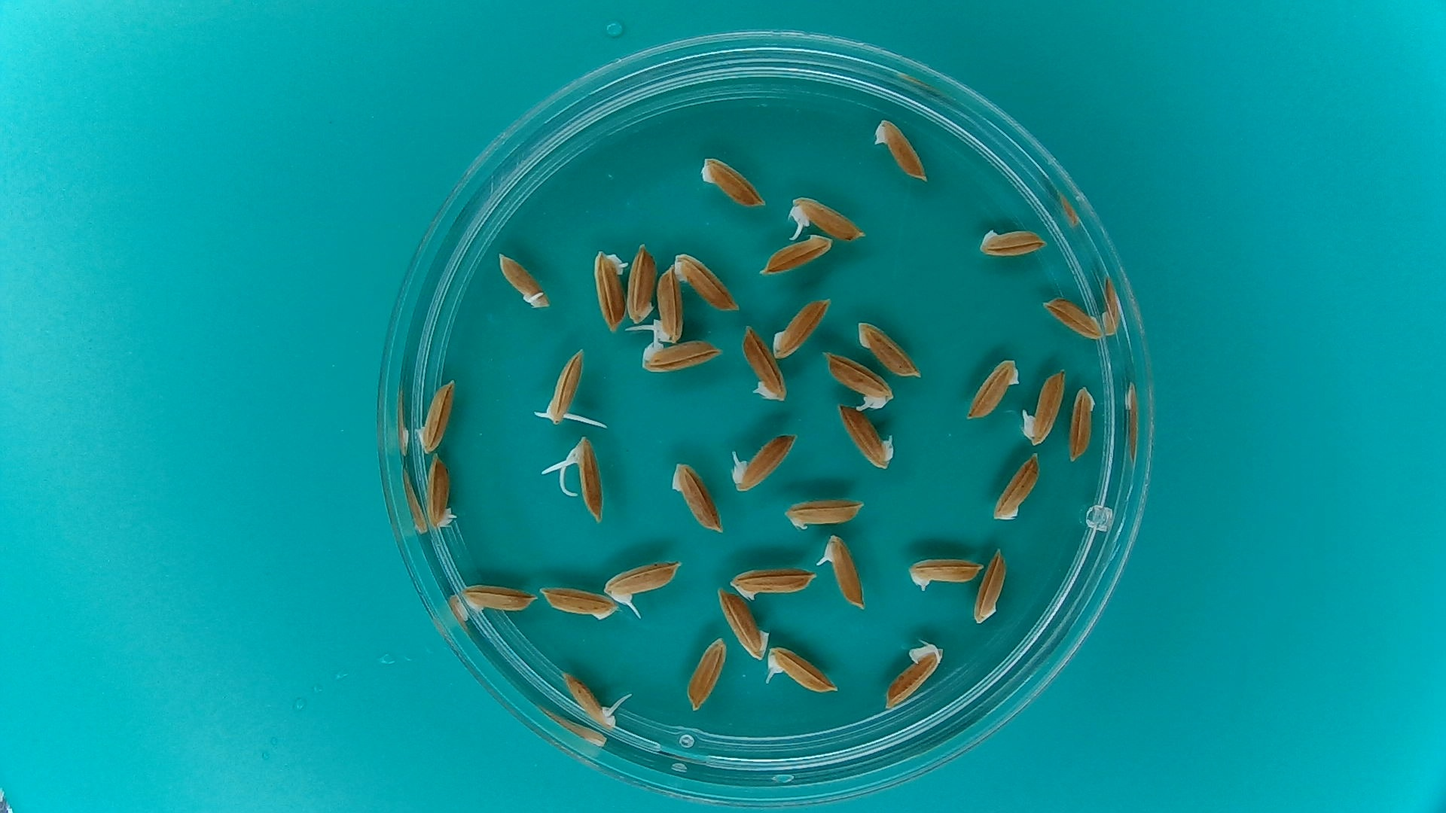no: (881, 637, 947, 714), (669, 248, 743, 315), (853, 315, 925, 381), (667, 455, 725, 536), (694, 151, 769, 211), (768, 293, 834, 361), (716, 585, 770, 662), (871, 113, 930, 183), (989, 449, 1044, 524), (635, 333, 726, 377), (963, 355, 1021, 424), (682, 632, 729, 714), (725, 562, 817, 603), (412, 374, 459, 454), (779, 494, 868, 531), (537, 583, 619, 623), (972, 542, 1010, 627), (1039, 294, 1106, 342), (760, 233, 834, 276), (457, 578, 540, 616), (1066, 381, 1100, 463), (975, 223, 1051, 259), (625, 239, 657, 323)
yes: (819, 347, 896, 412), (602, 555, 685, 612), (834, 398, 897, 473), (562, 431, 609, 528), (784, 192, 871, 244), (816, 531, 870, 614), (536, 346, 589, 429), (1017, 364, 1069, 448), (728, 434, 798, 495), (741, 321, 791, 405), (558, 667, 622, 731), (764, 643, 841, 696), (588, 242, 631, 336), (492, 248, 554, 312), (905, 554, 987, 594), (651, 264, 686, 343), (424, 453, 459, 531)
